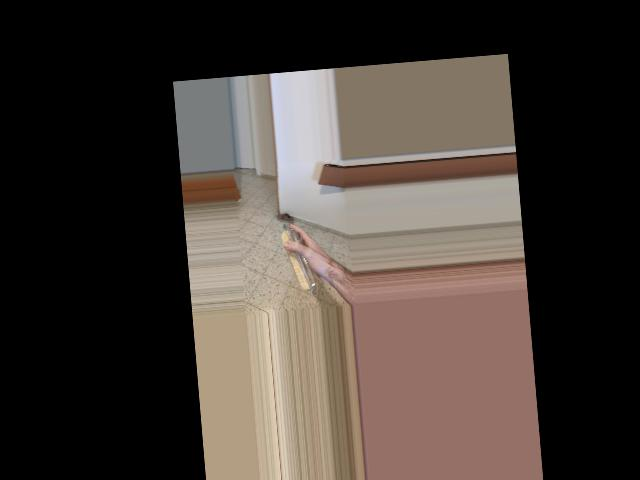cheese: (271, 217, 333, 286)
